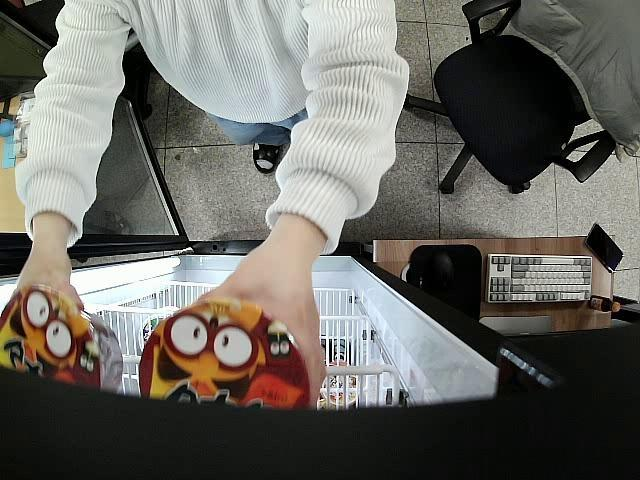05_nuguri_L: (138, 302, 312, 412), (0, 284, 124, 392)
